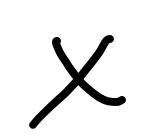mult: (30, 36, 126, 129)
